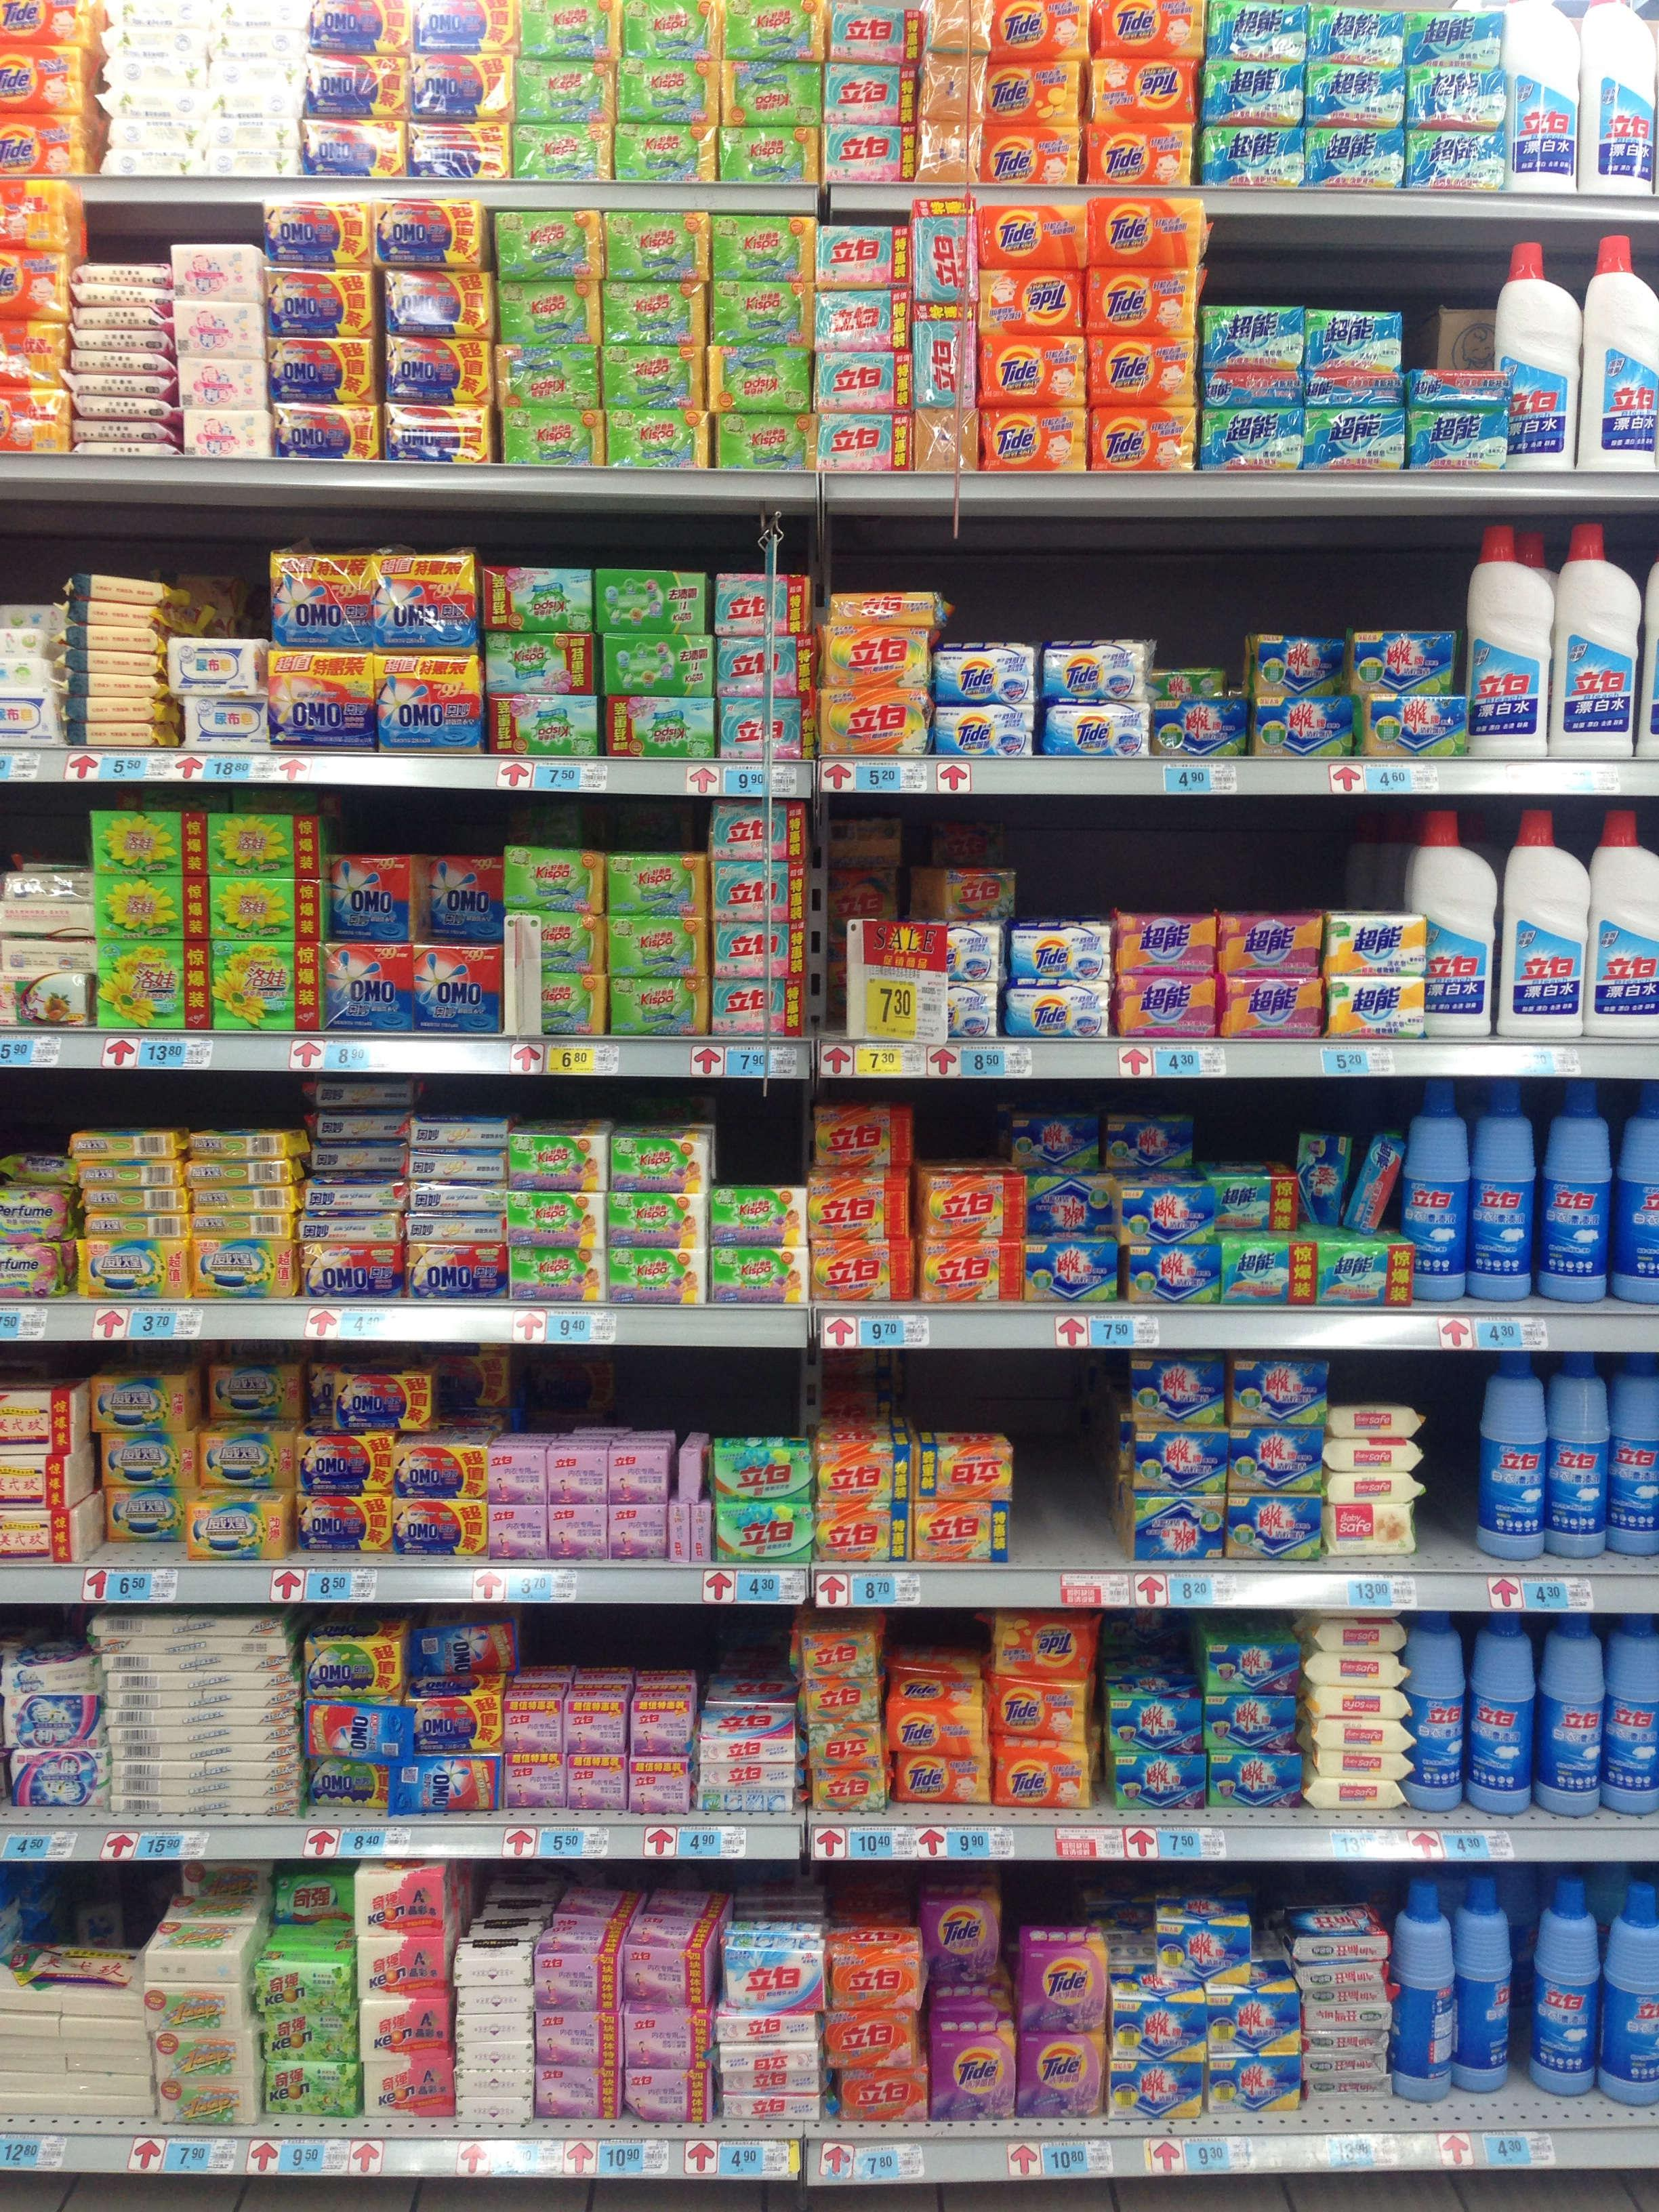misalignment: (911, 855, 1026, 920), (1290, 1127, 1349, 1231), (1352, 1123, 1405, 1238), (823, 590, 958, 627), (1152, 660, 1223, 702), (671, 1432, 713, 1498)
